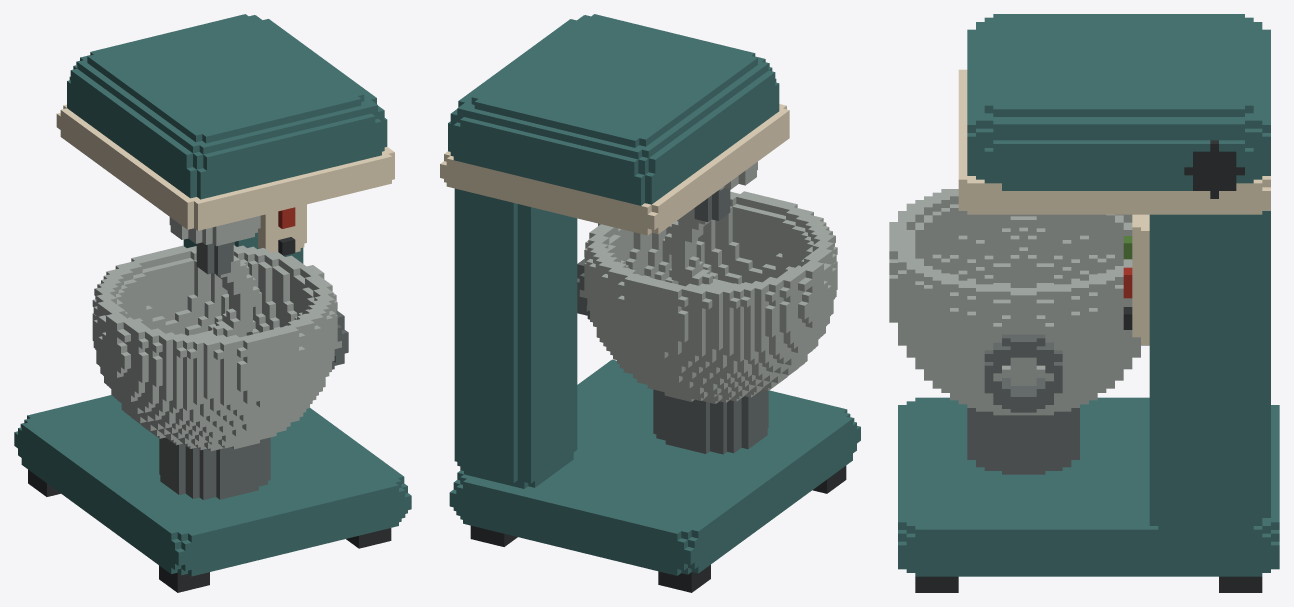
Rendered from dough_mixer.glb.
3 renders of one model, left to right at view 1: azimuth 30°, elevation 25°; view 2: azimuth 150°, elevation 25°; view 3: azimuth 270°, elevation 25°, orthographic. The views are drawn at different scales.
Parts seen in each view (by area): view 1: dough_mixer; view 2: dough_mixer; view 3: dough_mixer.
Boxes of the visible parts, x1=… form: dough_mixer: x1=14, y1=14, x2=411, y2=592; dough_mixer: x1=440, y1=14, x2=860, y2=592; dough_mixer: x1=889, y1=14, x2=1279, y2=592.
Size of the model in its own units: 1.44 by 2.23 by 1.62.
